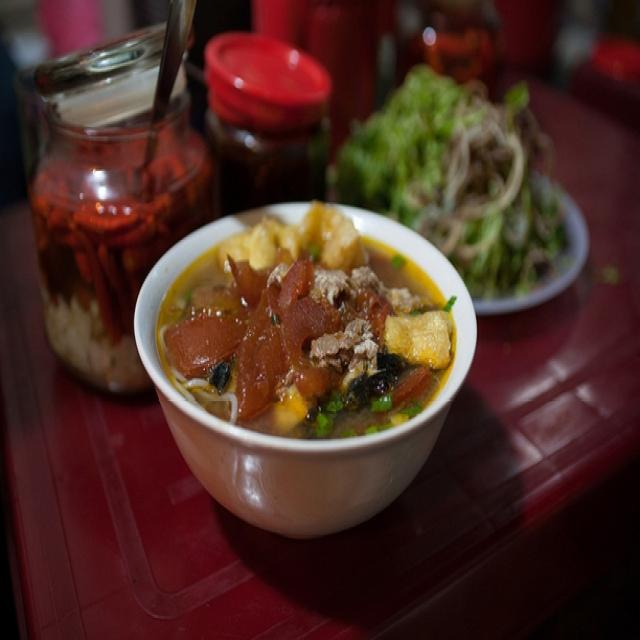面条主食: (123, 191, 480, 546)
